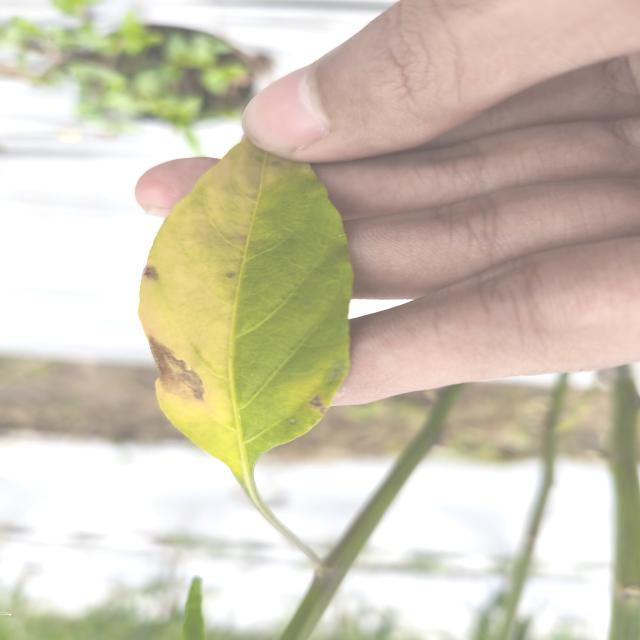Virus Kuning: (137, 135, 355, 466)
